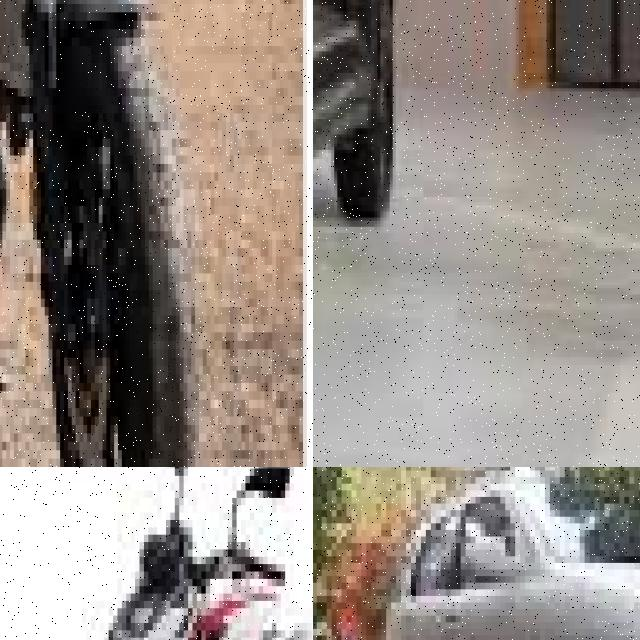bike: (0, 0, 214, 467), (0, 512, 313, 640)
car: (346, 467, 640, 640), (313, 0, 389, 445)
